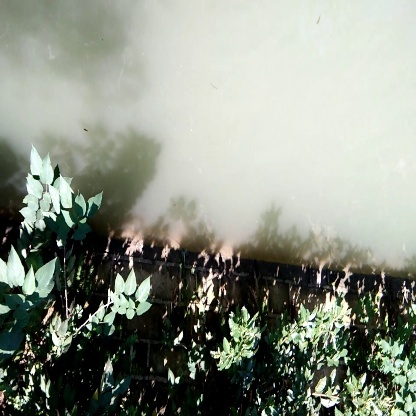grass: (7, 154, 100, 287)
